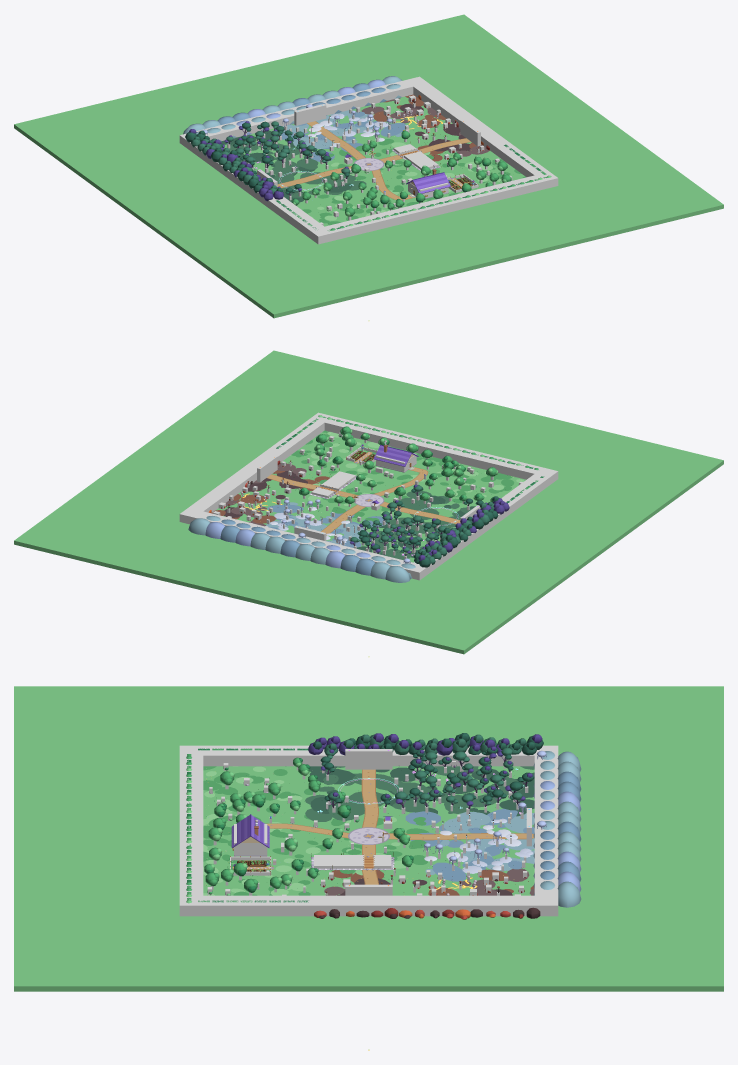
File: World01.glb
3 views of the same model, one above another, from view 1: azimuth 30°, elevation 25°; view 2: azimuth 150°, elevation 25°; view 3: azimuth 270°, elevation 25° (orthographic). The views are drawn at different scales.
Visible parts, largest first — view 1: Ground, Ground_Patches, Border, COL_Border_S, COL_Border_E, COL_Border_N, Trees_Vale, Forest, COL_Border_W, Paths, Spirits, Cottage (+1 smaller); view 2: Ground, Ground_Patches, Border, COL_Border_S, COL_Border_E, Forest, Trees_Vale, COL_Border_W, COL_Border_N, Paths, Spirits, Cottage; view 3: Ground, Ground_Patches, Border, COL_Border_E, Forest, Trees_Vale, COL_Border_W, COL_Border_S, COL_Border_N, Paths, Spirits, COL_Gate_Forest (+3 smaller).
Boxes of the visible parts, bbox=[...] form: Ground: bbox=[14, 14, 723, 318]; Ground_Patches: bbox=[221, 94, 525, 225]; Border: bbox=[183, 76, 551, 231]; COL_Border_S: bbox=[309, 172, 558, 244]; COL_Border_E: bbox=[406, 77, 558, 189]; COL_Border_N: bbox=[179, 76, 427, 148]; Trees_Vale: bbox=[292, 130, 511, 216]; Forest: bbox=[211, 121, 353, 195]; COL_Border_W: bbox=[179, 133, 333, 243]; Paths: bbox=[277, 121, 470, 200]; Spirits: bbox=[282, 110, 392, 150]; Cottage: bbox=[406, 164, 450, 198]; Ground: bbox=[14, 350, 723, 654]; Ground_Patches: bbox=[212, 430, 524, 559]; Border: bbox=[188, 415, 544, 582]; COL_Border_S: bbox=[310, 412, 558, 484]; COL_Border_E: bbox=[180, 413, 329, 524]; Forest: bbox=[350, 484, 487, 556]; Trees_Vale: bbox=[299, 426, 498, 503]; COL_Border_W: bbox=[405, 467, 558, 579]; COL_Border_N: bbox=[179, 508, 428, 580]; Paths: bbox=[267, 467, 460, 535]; Spirits: bbox=[270, 499, 360, 544]; Cottage: bbox=[373, 440, 418, 472]; Ground: bbox=[14, 686, 723, 991]; Ground_Patches: bbox=[203, 766, 534, 895]; Border: bbox=[186, 733, 581, 919]; COL_Border_E: bbox=[179, 895, 558, 916]; Forest: bbox=[317, 746, 534, 814]; Trees_Vale: bbox=[204, 757, 413, 892]; COL_Border_W: bbox=[179, 745, 558, 766]; COL_Border_S: bbox=[179, 745, 203, 916]; COL_Border_N: bbox=[534, 745, 558, 916]; Paths: bbox=[266, 769, 533, 884]; Spirits: bbox=[423, 802, 533, 873]; COL_Gate_Forest: bbox=[345, 749, 392, 769].
Size of the model in its own units: 120 by 46.09 by 120.
Materials: 1 (1 with a texture image).
